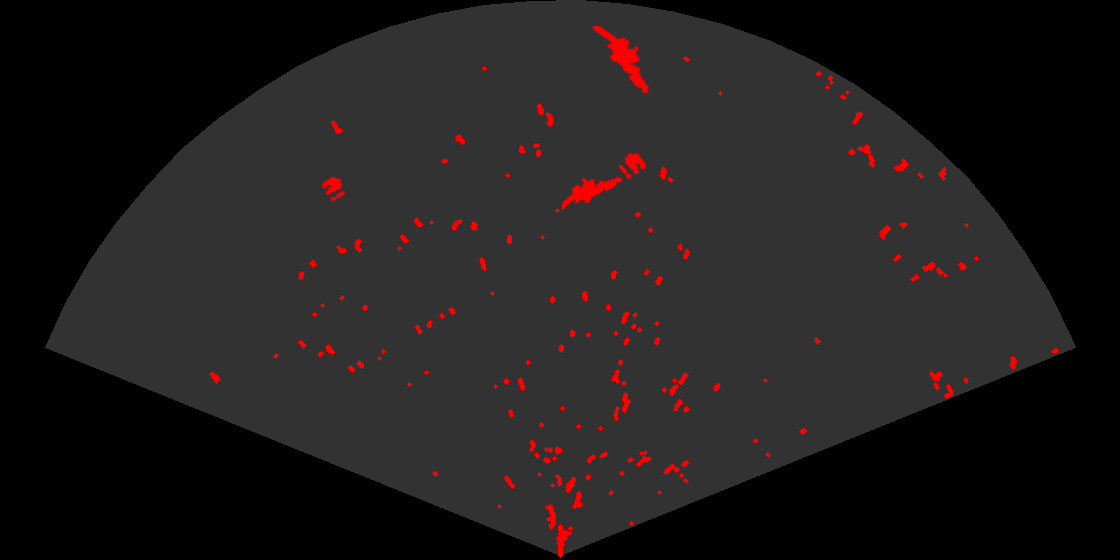ball: (617, 151, 647, 181), (320, 175, 347, 203)
frogman: (593, 26, 651, 95), (562, 175, 624, 212)
